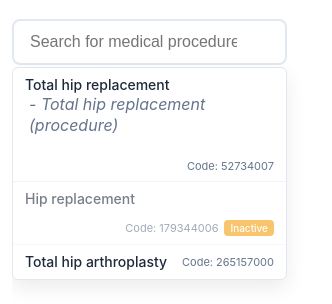
Scenario: SearchInput Component › Keyboard Navigation › should close dropdown with Escape key
The width and height of the screenshot is (332, 304).
Click the dropdown at point(150, 42), box [12,19,287,65]
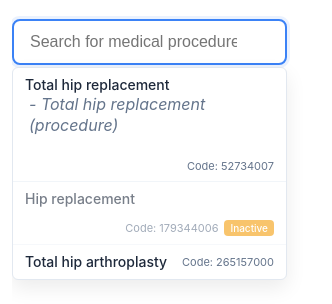
Check: the list is shown, box [12,67,287,280]
Press Escape
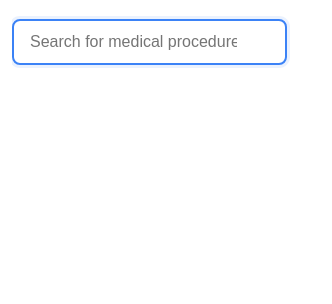
Check: the list is gone
